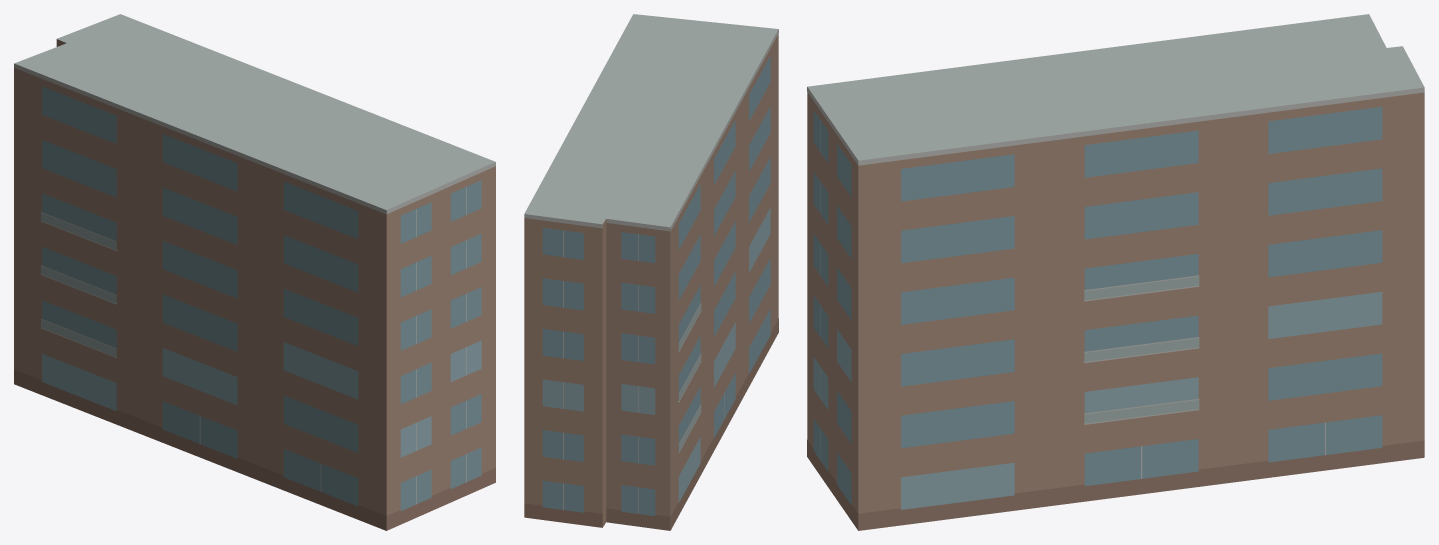
Rendered from survey-upis-32568898.glb.
3 views of the same model, side by side, from view 1: azimuth 30°, elevation 25°; view 2: azimuth 150°, elevation 25°; view 3: azimuth 270°, elevation 25° (orthographic). The views are drawn at different scales.
Parts seen in each view (by area): view 1: survey-upis-32568898.tmp; view 2: survey-upis-32568898.tmp; view 3: survey-upis-32568898.tmp.
Boxes of the visible parts, bbox=[...] form: survey-upis-32568898.tmp: bbox=[14, 14, 495, 530]; survey-upis-32568898.tmp: bbox=[524, 14, 778, 530]; survey-upis-32568898.tmp: bbox=[807, 14, 1424, 530].
Bounding box in the file's own units: 15.57 × 18.3 × 27.68.
